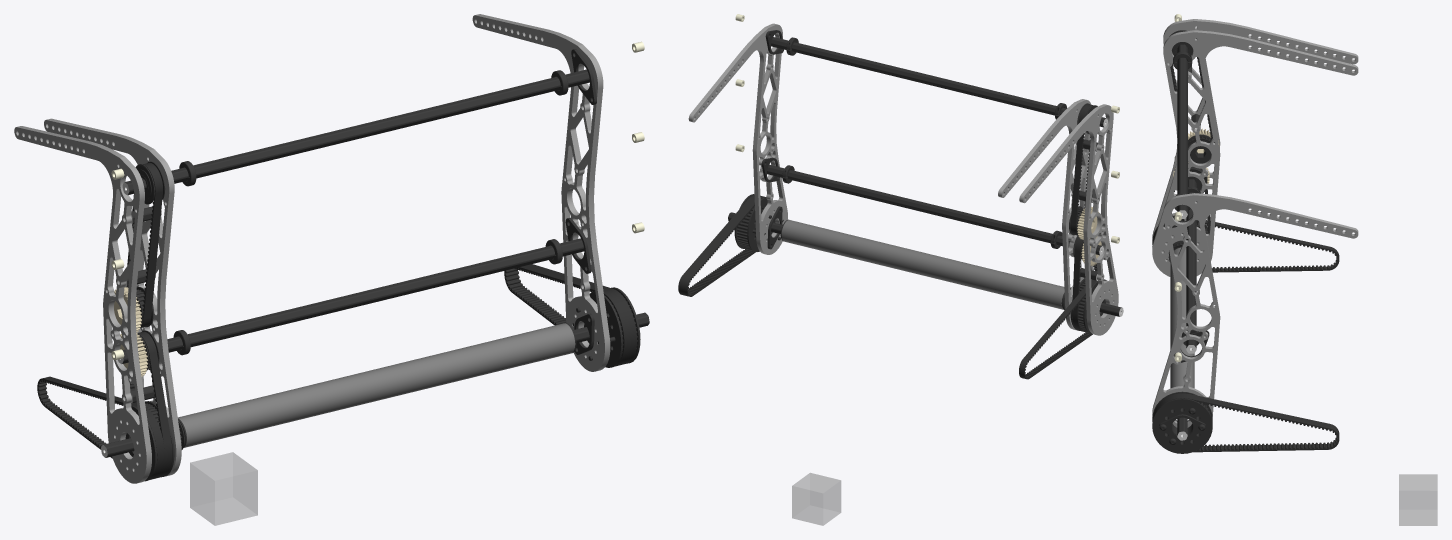
3 views of the same model, side by side, from view 1: azimuth 30°, elevation 25°; view 2: azimuth 150°, elevation 25°; view 3: azimuth 270°, elevation 25° (orthographic). The views are drawn at different scales.
Visible parts, largest first — view 1: IN-001 Intake Plate (×3), Roller, 1/2" Rounded Hex (21.563" L, 13.75mm OD) (×2), Origin Cube, 110T 5M 15mm Wide Belt, 110T 5M 9mm Wide Belt, 85T 5M 9mm Wide Belt, 75T 5M 9mm Wide Belt, 48t Aluminum Pulley (HTD 5mm, 18.5mm Wide, 1.125" Round Bore, 1/2" Rounded Hex (25.125" L, 13.75mm OD); view 2: IN-001 Intake Plate (×3), Roller, 1/2" Rounded Hex (21.563" L, 13.75mm OD) (×2), Origin Cube, 110T 5M 15mm Wide Belt, 110T 5M 9mm Wide Belt, 85T 5M 9mm Wide Belt, 48t Aluminum Pulley (HTD 5mm, 18.5mm Wide, 1.125" Round Bore, 75T 5M 9mm Wide Belt; view 3: IN-001 Intake Plate (×3), 1/2" Rounded Hex (21.563" L, 13.75mm OD) (×2), 110T 5M 15mm Wide Belt, 48t Aluminum Pulley (HTD 5mm, 18.5mm Wide, 1.125" Round Bore, Origin Cube, Roller, 110T 5M 9mm Wide Belt, 24t Aluminum Pulley (HTD 5mm, 9mm Wide, 1/2" Hex Bore), 1.125" OD Bearing Retention Plate (Centered, 2" C-C).
Boxes of the visible parts, box(x1,y1,x2,y2) form: IN-001 Intake Plate (×3): box(14, 14, 610, 483); Roller: box(177, 323, 575, 447); 1/2" Rounded Hex (21.563" L, 13.75mm OD) (×2): box(118, 69, 589, 364); Origin Cube: box(190, 452, 257, 525); 110T 5M 15mm Wide Belt: box(504, 264, 636, 366); 110T 5M 9mm Wide Belt: box(37, 376, 164, 479); 85T 5M 9mm Wide Belt: box(126, 162, 162, 327); 75T 5M 9mm Wide Belt: box(130, 331, 172, 478); 48t Aluminum Pulley (HTD 5mm, 18.5mm Wide, 1.125" Round Bore: box(584, 287, 640, 367); 1/2" Rounded Hex (25.125" L, 13.75mm OD): box(101, 312, 649, 457); IN-001 Intake Plate (×3): box(688, 23, 1118, 335); Roller: box(781, 220, 1064, 309); 1/2" Rounded Hex (21.563" L, 13.75mm OD) (×2): box(767, 37, 1107, 255); Origin Cube: box(792, 473, 840, 525); 110T 5M 15mm Wide Belt: box(678, 195, 765, 296); 110T 5M 9mm Wide Belt: box(1019, 280, 1096, 379); 85T 5M 9mm Wide Belt: box(1070, 104, 1092, 235); 48t Aluminum Pulley (HTD 5mm, 18.5mm Wide, 1.125" Round Bore: box(734, 194, 775, 251); 75T 5M 9mm Wide Belt: box(1072, 237, 1097, 332); IN-001 Intake Plate (×3): box(1152, 19, 1358, 427); 1/2" Rounded Hex (21.563" L, 13.75mm OD) (×2): box(1177, 44, 1196, 353); 110T 5M 15mm Wide Belt: box(1152, 393, 1339, 452); 48t Aluminum Pulley (HTD 5mm, 18.5mm Wide, 1.125" Round Bore: box(1152, 391, 1212, 453); Origin Cube: box(1399, 474, 1437, 525); Roller: box(1170, 247, 1194, 388); 110T 5M 9mm Wide Belt: box(1152, 216, 1339, 272); 24t Aluminum Pulley (HTD 5mm, 9mm Wide, 1/2" Hex Bore): box(1188, 134, 1211, 163); 1.125" OD Bearing Retention Plate (Centered, 2" C-C): box(1159, 414, 1206, 438).
Size of the model in its own units: 0.6382 by 0.5845 by 0.3737.
